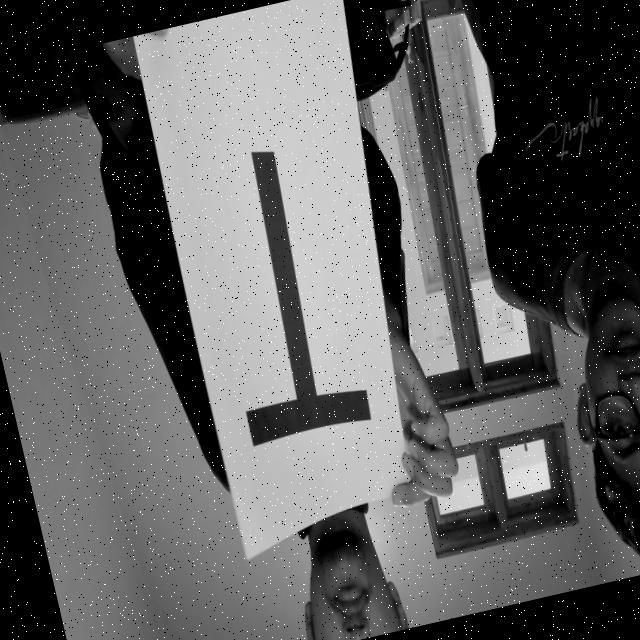t: (172, 114, 382, 467)
